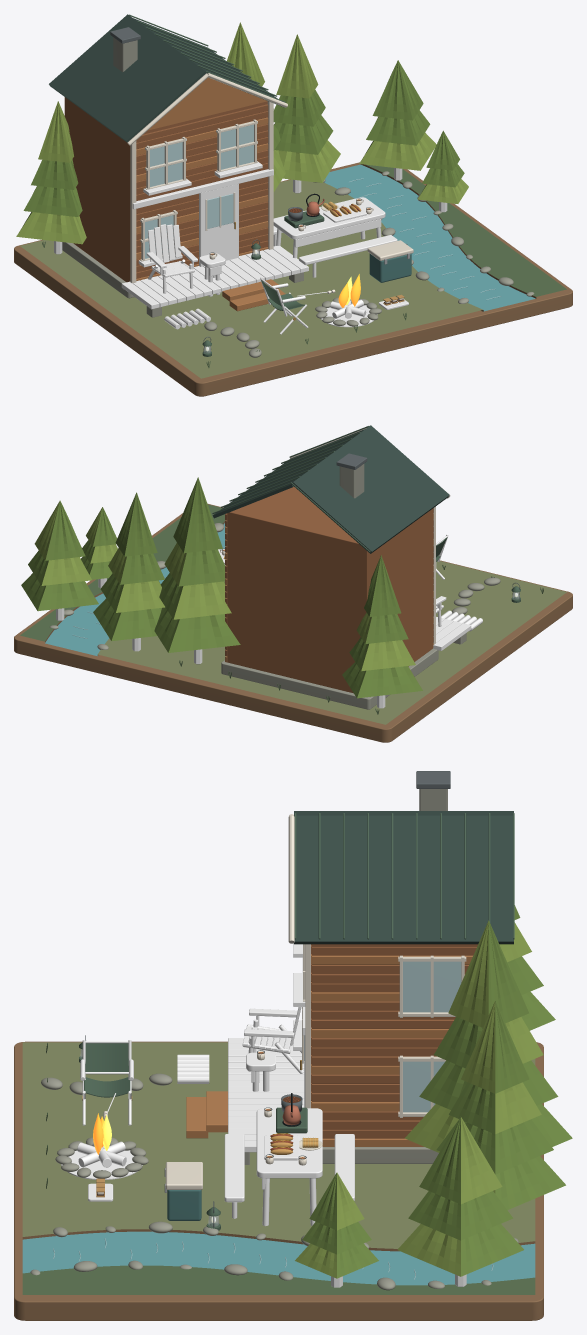
The model's file is riverside-cabin-campsite.glb.
3 views of the same model, one above another, from view 1: azimuth 30°, elevation 25°; view 2: azimuth 150°, elevation 25°; view 3: azimuth 270°, elevation 25° (orthographic). The views are drawn at different scales.
Parts seen in each view (by area): view 1: Broad meadow left bank export, Earth diorama base export, Green standing seam roof export, Continuous blue river export, Cabin enclosed body export, Narrow far river bank export, Front triangular cedar gable export, Walnut cabin door export, Camp picnic table rounded top export, Green standing seam roof.001 export, Rear left pine folded tier face.003 export, River bank pine folded tier face.003 export (+35 smaller); view 2: Cabin enclosed body export, Broad meadow left bank export, Earth diorama base export, Green standing seam roof export, Cabin stone footing export, Continuous blue river export, Rear corner pine folded tier face.002 export, Green standing seam roof.001 export, Rear corner pine folded tier face.006 export, Narrow far river bank export, Rear corner pine folded tier face.014 export, Rear left pine folded tier face.002 export (+25 smaller); view 3: Broad meadow left bank export, Green standing seam roof.001 export, Earth diorama base export, Continuous blue river export, Narrow far river bank export, Side window blue panel.001 export, Camp picnic table rounded top export, Rear corner pine folded tier face.012 export, Rear right pine folded tier face.001 export, Rear corner pine folded tier face.013 export, Rear right pine folded tier face.005 export, River bank pine folded tier face export (+59 smaller).
Part boxes in pixels (x1,y1,x2,y2): Broad meadow left bank export: (20,179,482,378); Earth diorama base export: (14,162,572,396); Green standing seam roof export: (49,14,206,142); Continuous blue river export: (324,164,535,311); Cabin enclosed body export: (64,97,267,282); Narrow far river bank export: (366,164,566,296); Front triangular cedar gable export: (148,77,267,130); Walnut cabin door export: (199,184,238,266); Camp picnic table rounded top export: (273,197,385,239); Green standing seam roof.001 export: (133,18,284,107); Rear left pine folded tier face.003 export: (16,212,82,244); River bank pine folded tier face.003 export: (359,141,420,170); Cabin enclosed body export: (227,487,432,693); Broad meadow left bank export: (97,561,566,724); Earth diorama base export: (14,504,572,742); Green standing seam roof export: (291,425,449,553); Cabin stone footing export: (221,648,438,709); Continuous blue river export: (45,523,225,656); Rear corner pine folded tier face.002 export: (168,614,240,652); Green standing seam roof.001 export: (212,429,364,518); Rear corner pine folded tier face.006 export: (173,581,231,619); Narrow far river bank export: (20,504,225,641); Rear corner pine folded tier face.014 export: (184,477,222,553); Rear left pine folded tier face.002 export: (357,666,422,698); Broad meadow left bank export: (22,1042,535,1248); Green standing seam roof.001 export: (294,815,513,944); Earth diorama base export: (14,1041,543,1320); Continuous blue river export: (22,1231,535,1285); Narrow far river bank export: (22,1265,535,1294); Side window blue panel.001 export: (403,961,461,1012); Camp picnic table rounded top export: (256,1108,322,1178); Rear corner pine folded tier face.012 export: (448,921,488,1027); Rear right pine folded tier face.001 export: (495,1156,565,1209); Rear corner pine folded tier face.013 export: (488,920,528,1023); Rear right pine folded tier face.005 export: (495,1119,553,1174); River bank pine folded tier face export: (397,1224,460,1276).
Bounding box in the file's own units: 9.38 × 5.17 × 7.81.
